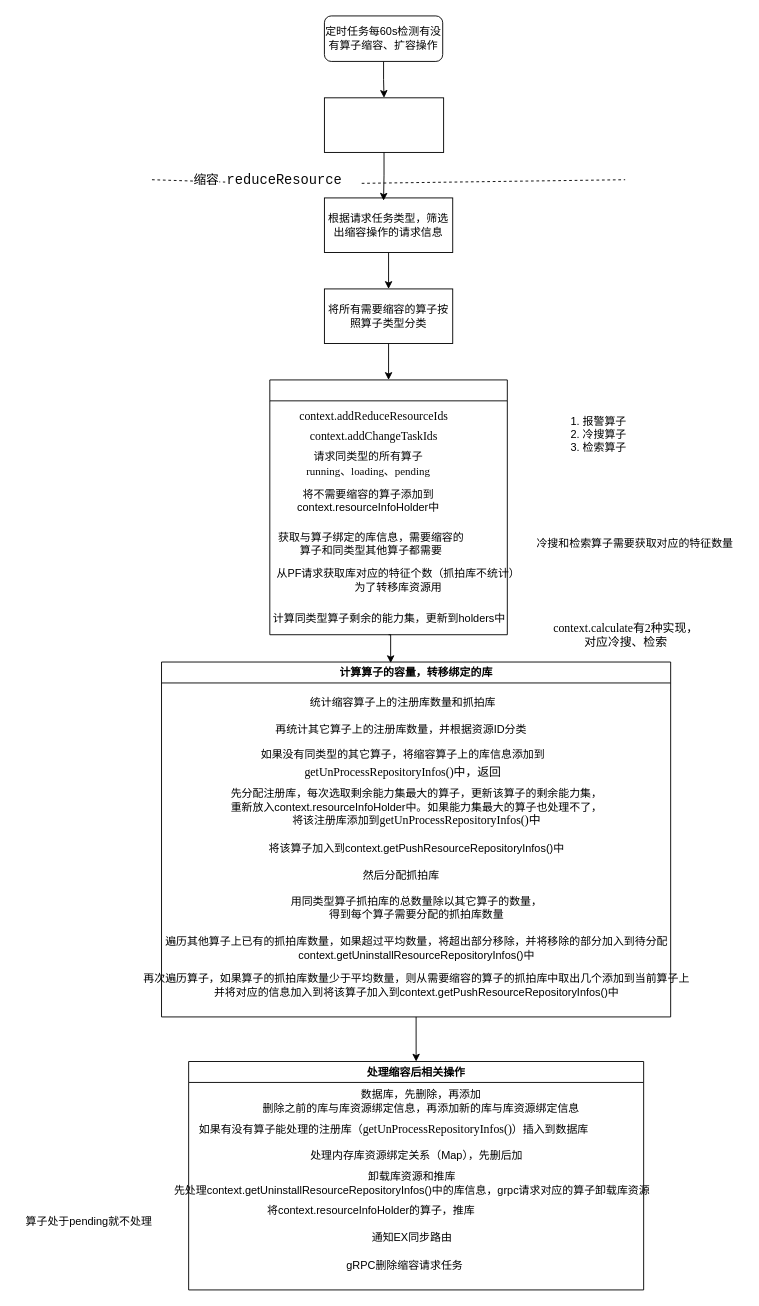
The diagram is 759 pixels wide and 1306 high, and some of its shapes have lost their labels. Here are the shapes that lost their labels. From the top down, the box of each, then its label:
(324, 97, 444, 152): gRPC请求需要扩容和缩容的请求信息
(269, 379, 507, 635): 为每种类型算子创建一个上下文
